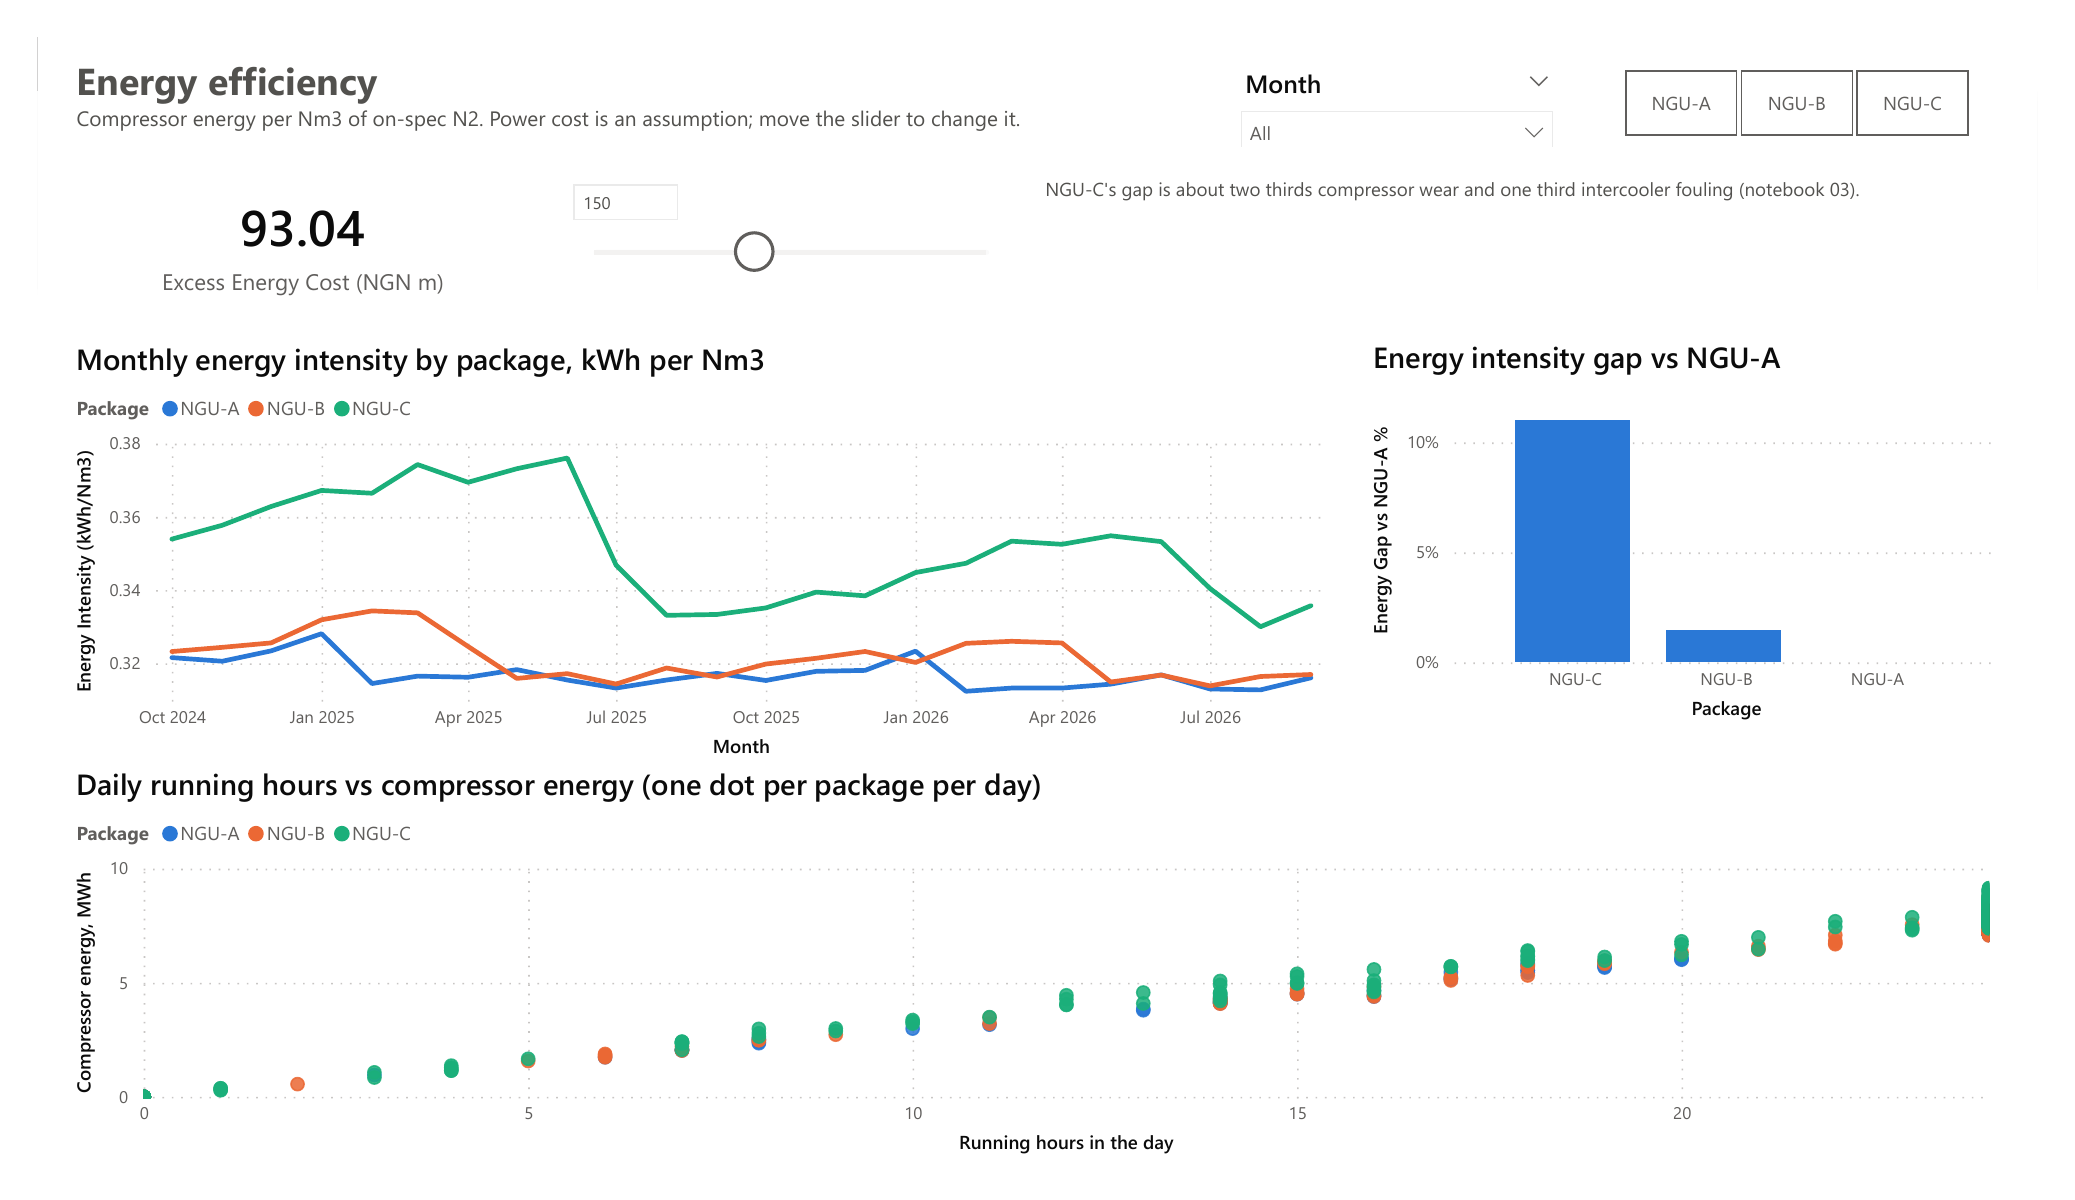

Layout of this report page (visuals, bound fields, positions):
{"tool":"powerbi","page":{"name":"Energy efficiency","canvas":[1280,720],"ordinal":2},"visuals":[{"type":"textbox","box":[20,6,720,68],"z":1001},{"type":"slicer","fields":{"Values":["dim_date.month_name"]},"box":[760,14,220,56],"z":1010},{"type":"slicer","fields":{"Values":["dim_package.package_id"]},"box":[990,14,270,56],"z":1020},{"type":"lineChart","title":"Monthly energy intensity by package, kWh per Nm3","fields":{"Category":["dim_date.month_start"],"Y":["_Measures.Energy Intensity (kWh/Nm3)"],"Series":["dim_package.package_id"]},"box":[20,192.5,820,273.8],"z":1030},{"type":"scatterChart","title":"Daily running hours vs compressor energy (one dot per package per day)","fields":{"X":["Sum(fact_daily_package.running_hours)"],"Y":["Sum(fact_daily_package.power_consumption_mwh)"],"Series":["dim_package.package_id"],"Category":["dim_date.date"]},"box":[20,465,1240,255],"z":1040},{"type":"clusteredColumnChart","title":"Energy intensity gap vs NGU-A","fields":{"Category":["dim_package.package_id"],"Y":["_Measures.Energy Gap vs NGU-A %"]},"box":[850,192,410,250],"z":1050},{"type":"card","fields":{"Values":["_Measures.Excess Energy Cost (NGN m)"]},"box":[20,84,300,96],"z":1060},{"type":"slicer","fields":{"Values":["Power Cost NGN per kWh.Power Cost NGN per kWh"]},"box":[330,84,300,96],"z":1070},{"type":"textbox","box":[640,84,620,96],"z":1080}]}

Visuals, with their boxes on the page's 1280x720 design canvas (x1, y1, x2, y2). These are canvas units, not pixel positions in the 2075x1200 screenshot, which may show the page scaled, cropped or inside an application window:
textbox: (left=20, top=6, right=740, bottom=74)
slicer - dim_date.month_name: (left=760, top=14, right=980, bottom=70)
slicer - dim_package.package_id: (left=990, top=14, right=1260, bottom=70)
"Monthly energy intensity by package, kWh per Nm3" lineChart: (left=20, top=192, right=840, bottom=466)
"Daily running hours vs compressor energy (one dot per package per day)" scatterChart: (left=20, top=465, right=1260, bottom=720)
"Energy intensity gap vs NGU-A" clusteredColumnChart: (left=850, top=192, right=1260, bottom=442)
card - _Measures.Excess Energy Cost (NGN m): (left=20, top=84, right=320, bottom=180)
slicer - Power Cost NGN per kWh.Power Cost NGN per kWh: (left=330, top=84, right=630, bottom=180)
textbox: (left=640, top=84, right=1260, bottom=180)
